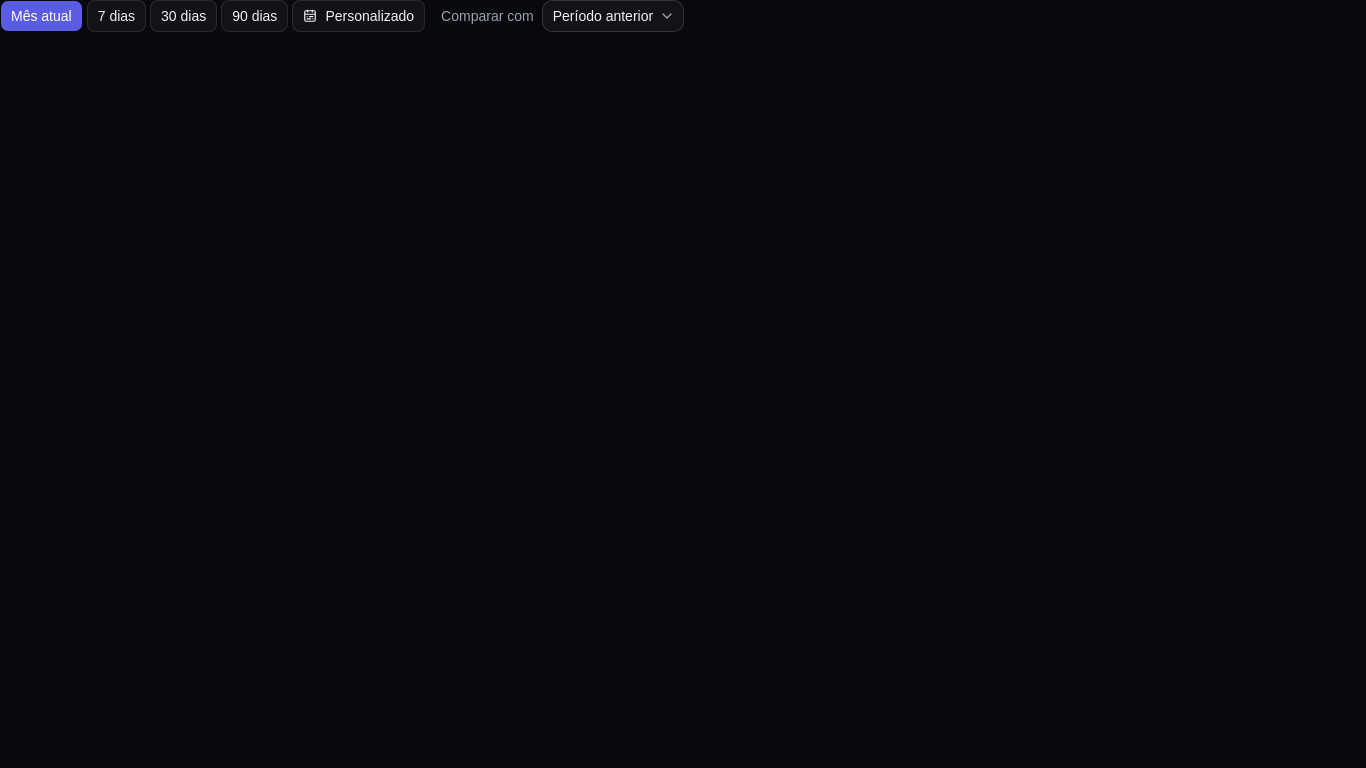
Test case: PeriodoAdsSeletor › range inválido (futuro) mostra o motivo e não envia
Click the button "Personalizado" at (359,16), box [292,0,425,32]
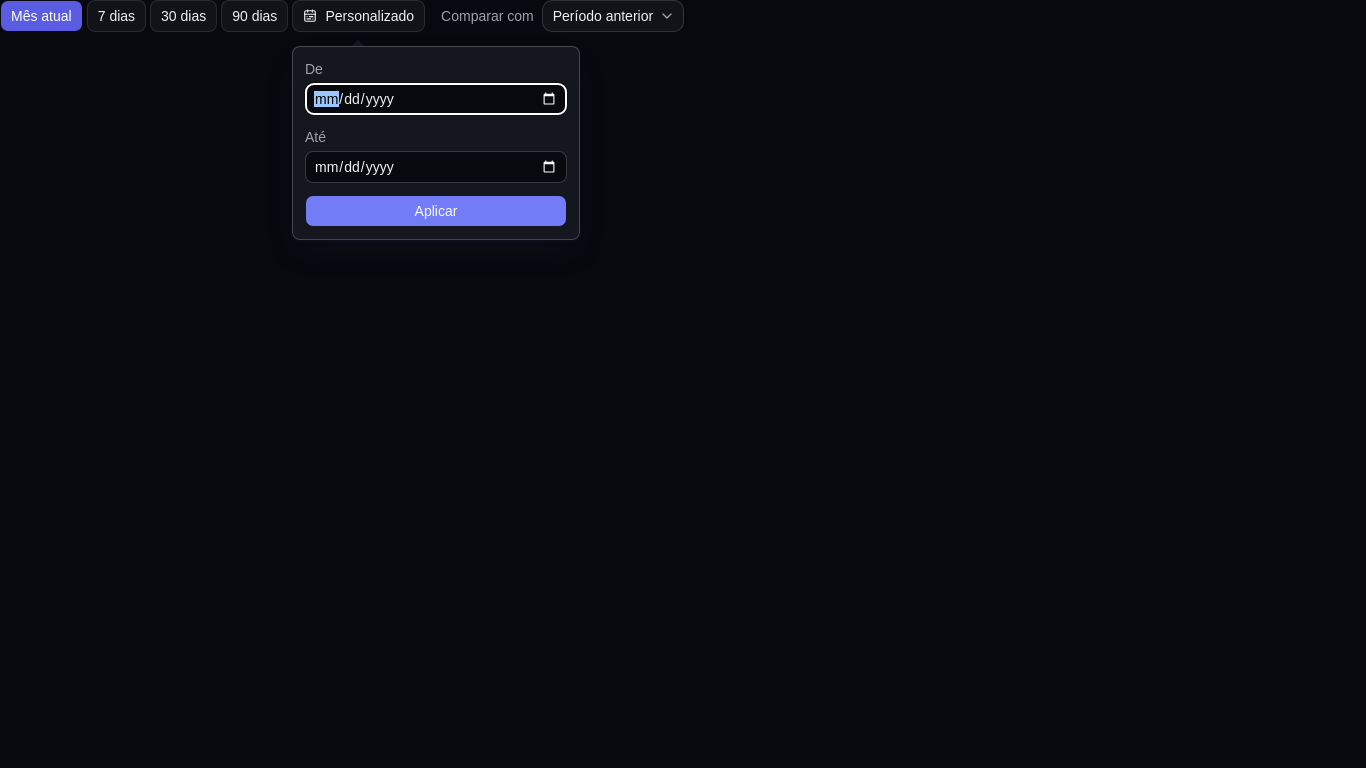
Type "2026-10-01" into the date field labelled "De" at (436,99), box [305,83,567,115]
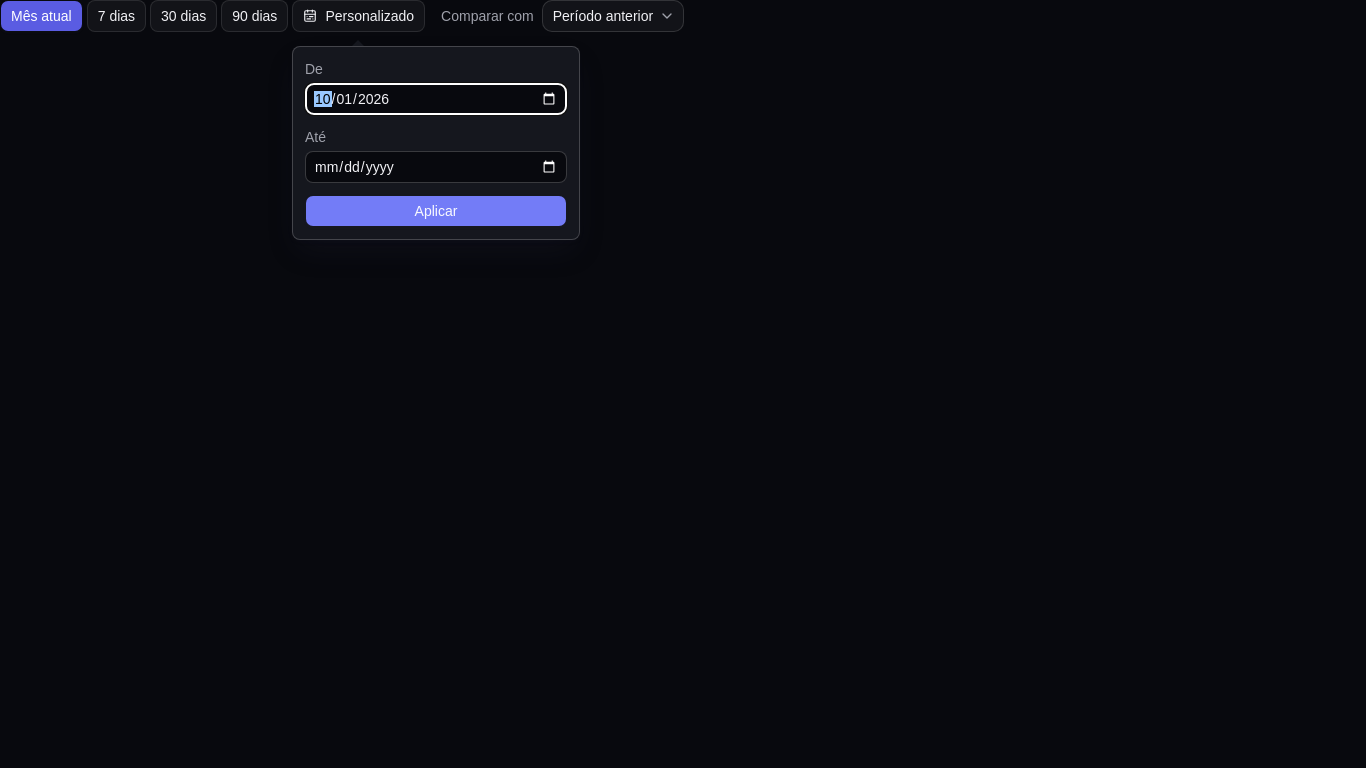
Type "2026-10-30" into the date field labelled "Até" at (436,167), box [305,151,567,183]
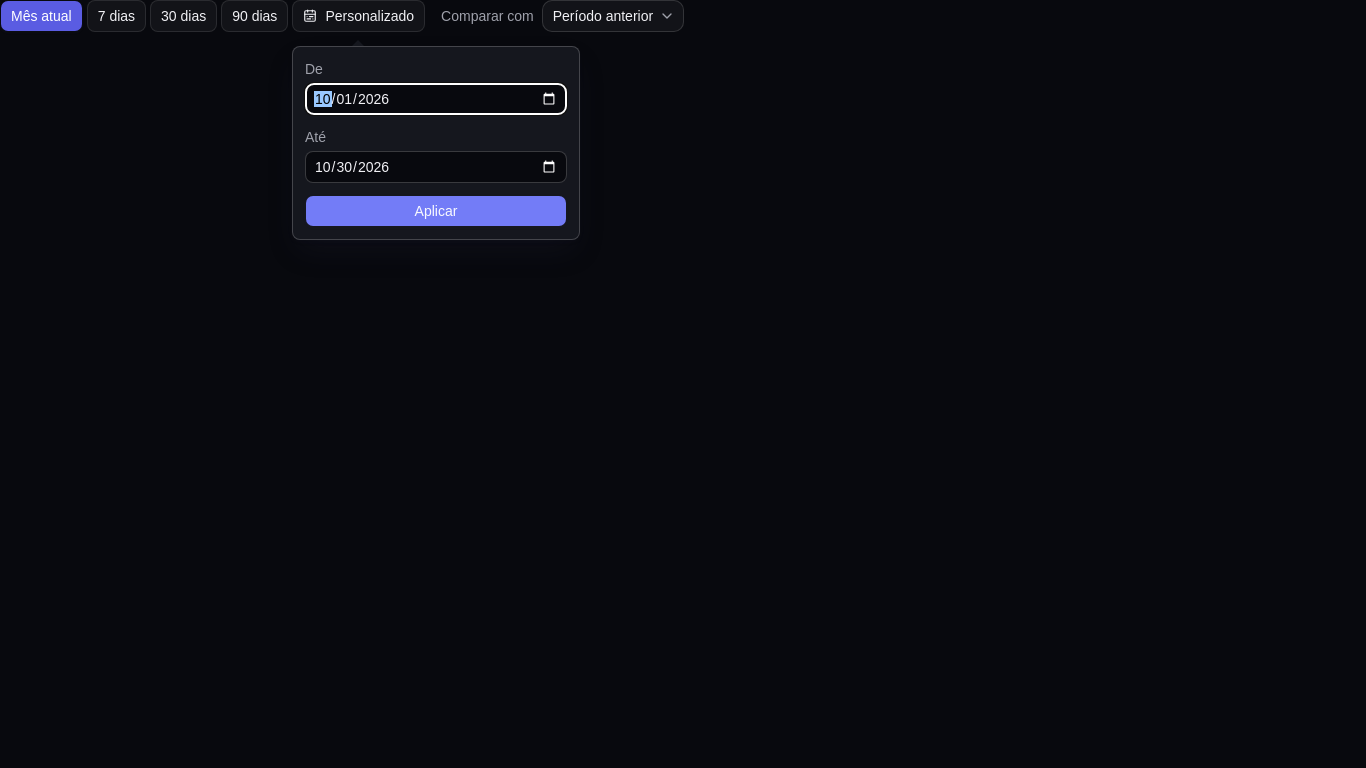
Click the button "Aplicar" at (436,211), box [305,195,567,227]
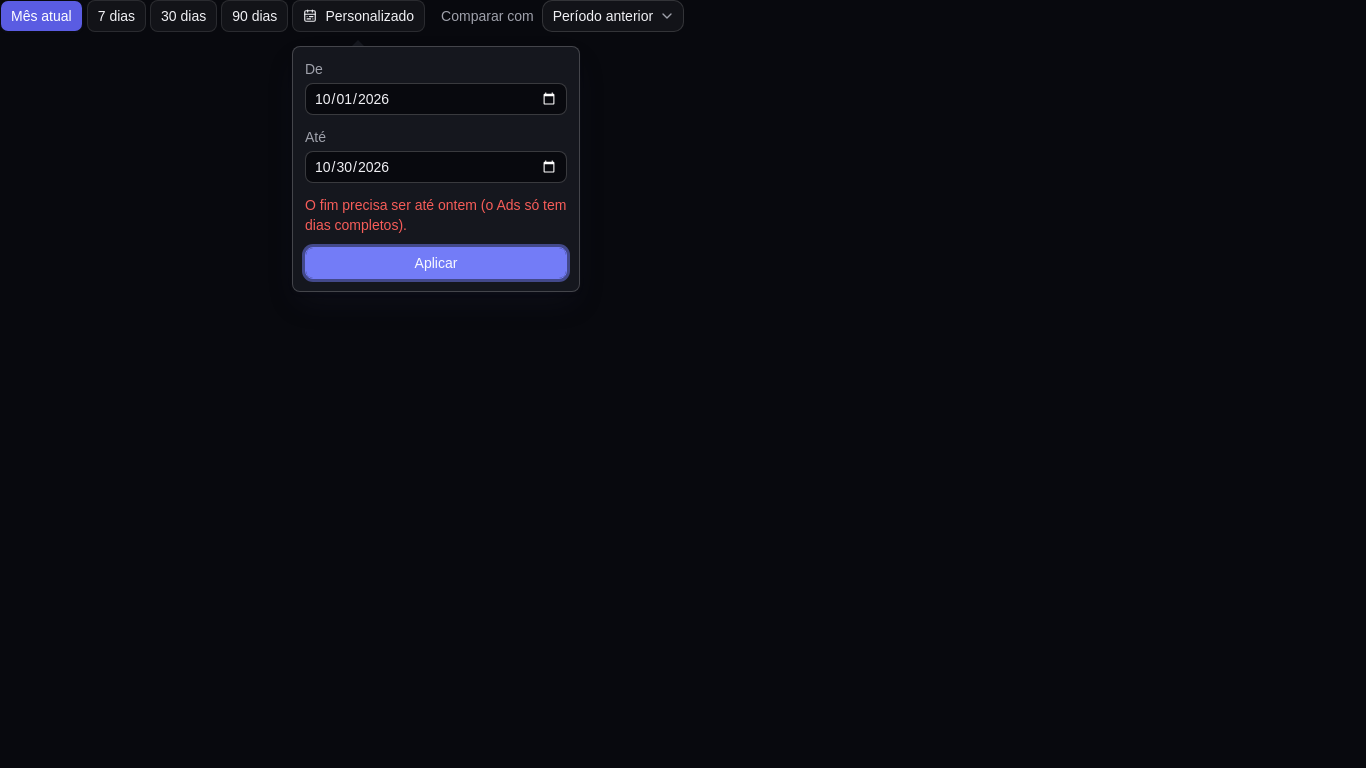
Check: the message shows "ontem", box [305,197,566,233]
